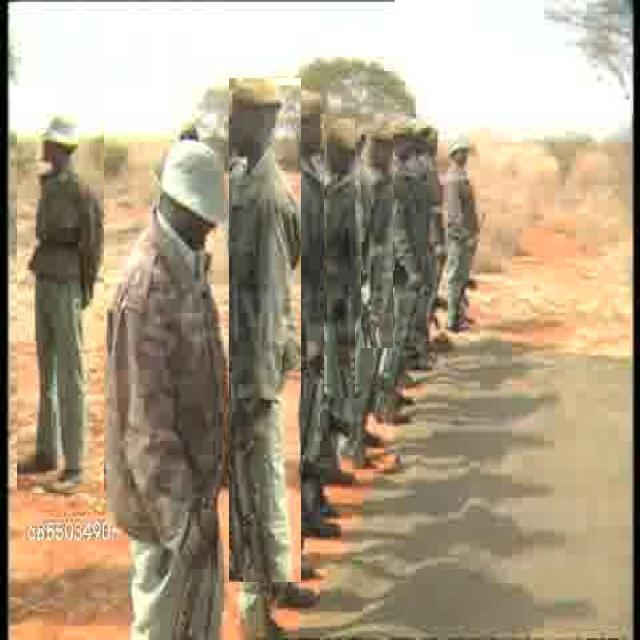poacher: (104, 130, 238, 600), (230, 78, 302, 582), (17, 87, 104, 493), (298, 80, 332, 379), (324, 118, 355, 398), (444, 126, 482, 332), (362, 134, 394, 348)
